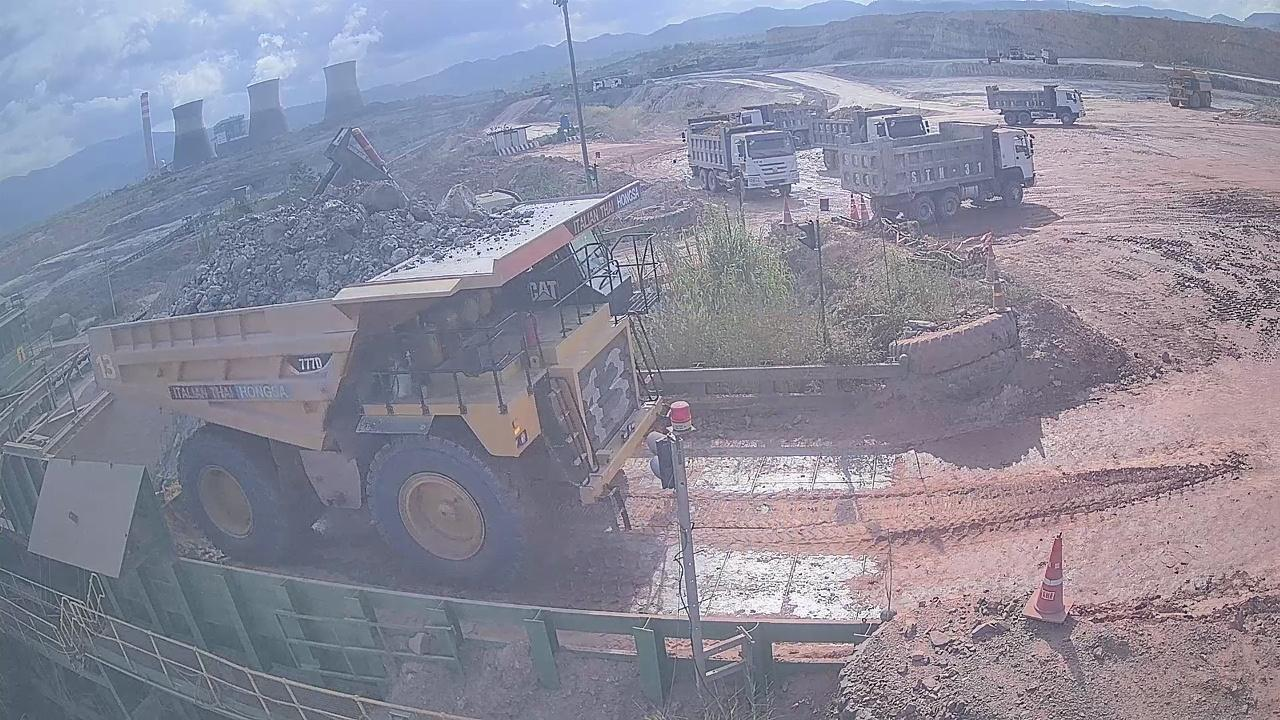company: (163, 382, 320, 404)
front_number: (577, 324, 640, 457)
full_load: (170, 190, 452, 310)
mining truck: (85, 177, 687, 586)
tail_number: (91, 346, 124, 383)
truck_size: (280, 351, 334, 379)
